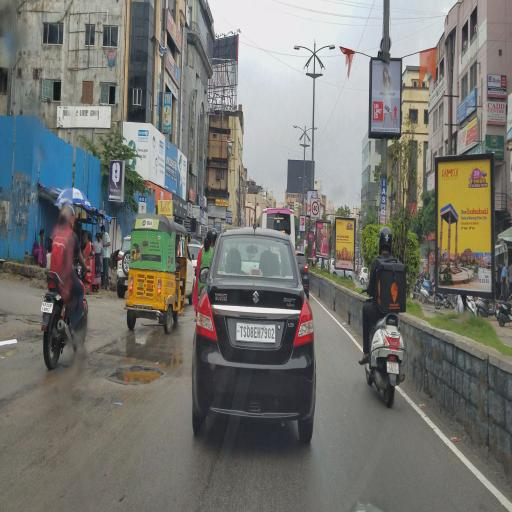street_light_0: (288, 40, 314, 70), (312, 39, 338, 65), (290, 119, 305, 145), (304, 123, 318, 143)
